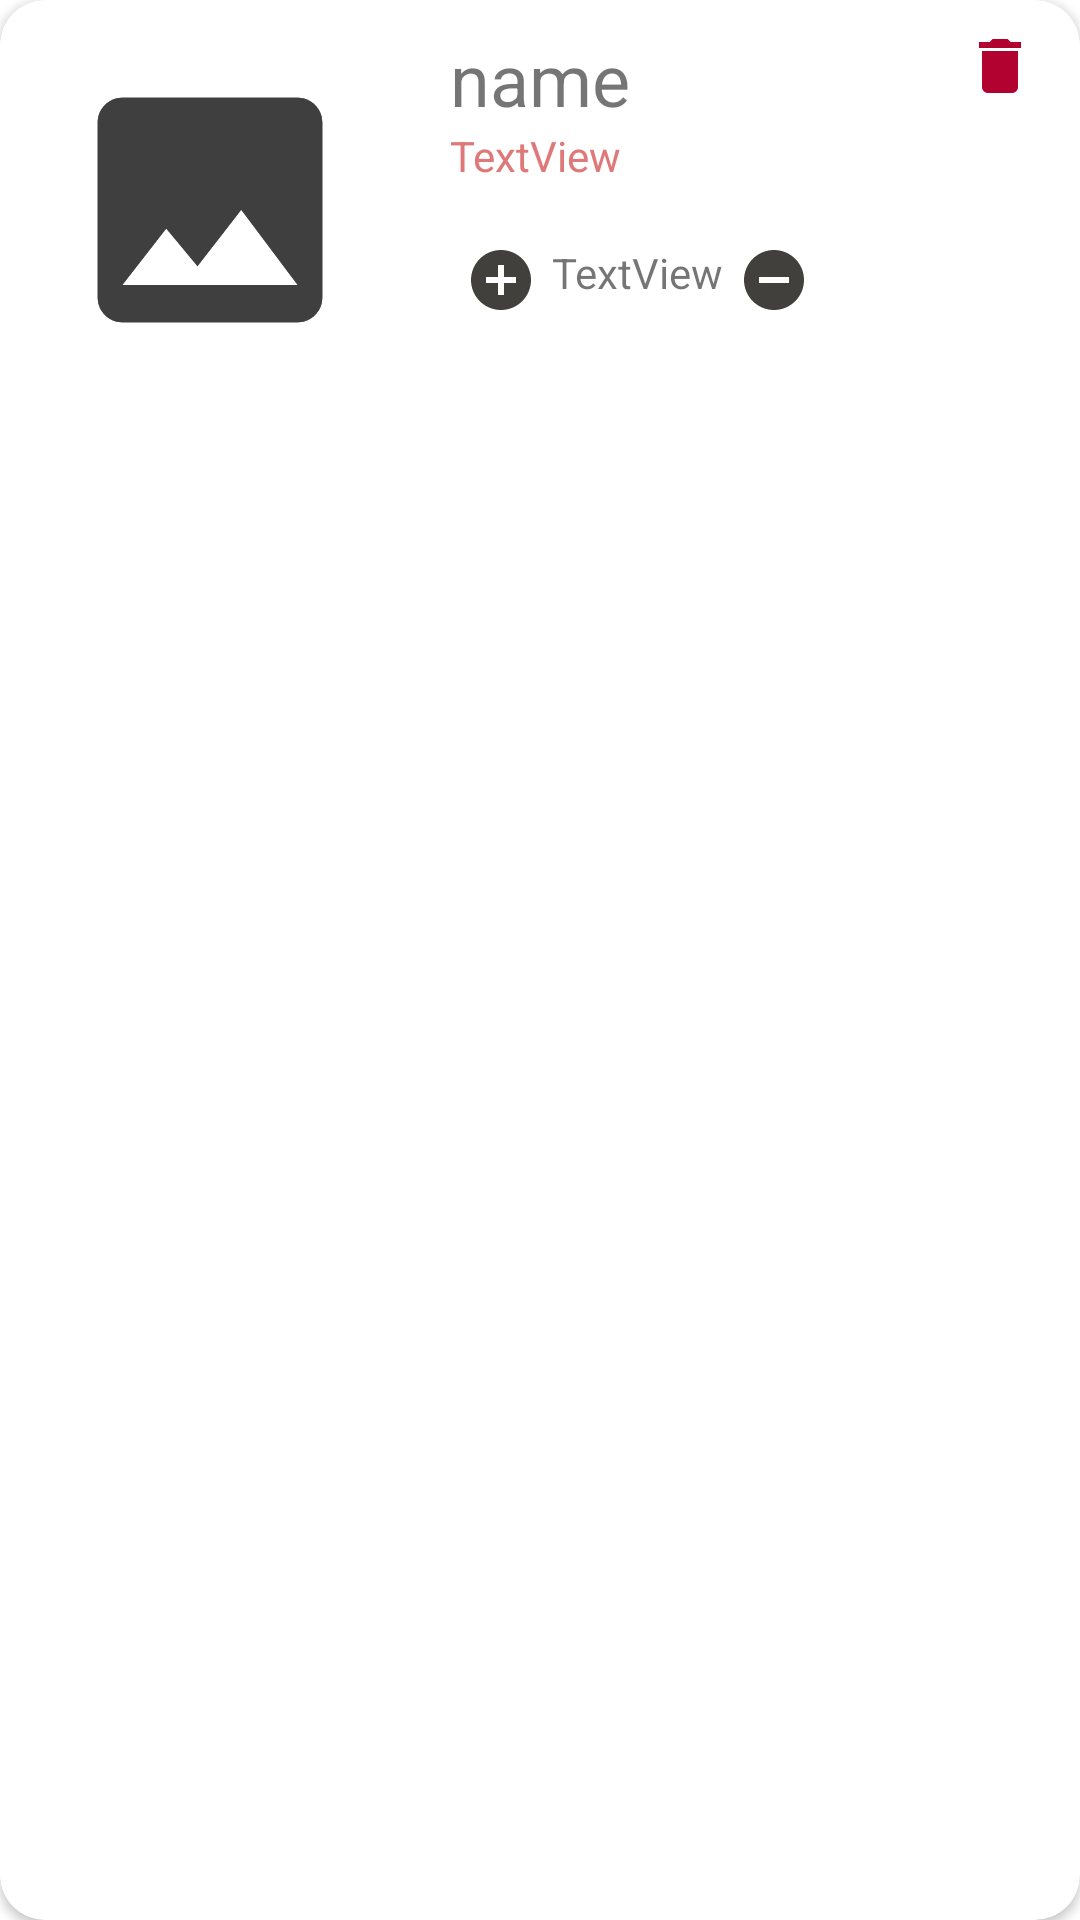

Point at icon controls on the screen. Image size 1080px×1920px, points as [x,y].
add circle: [501,280]
delete: [1000,66]
remove circle: [774,280]
